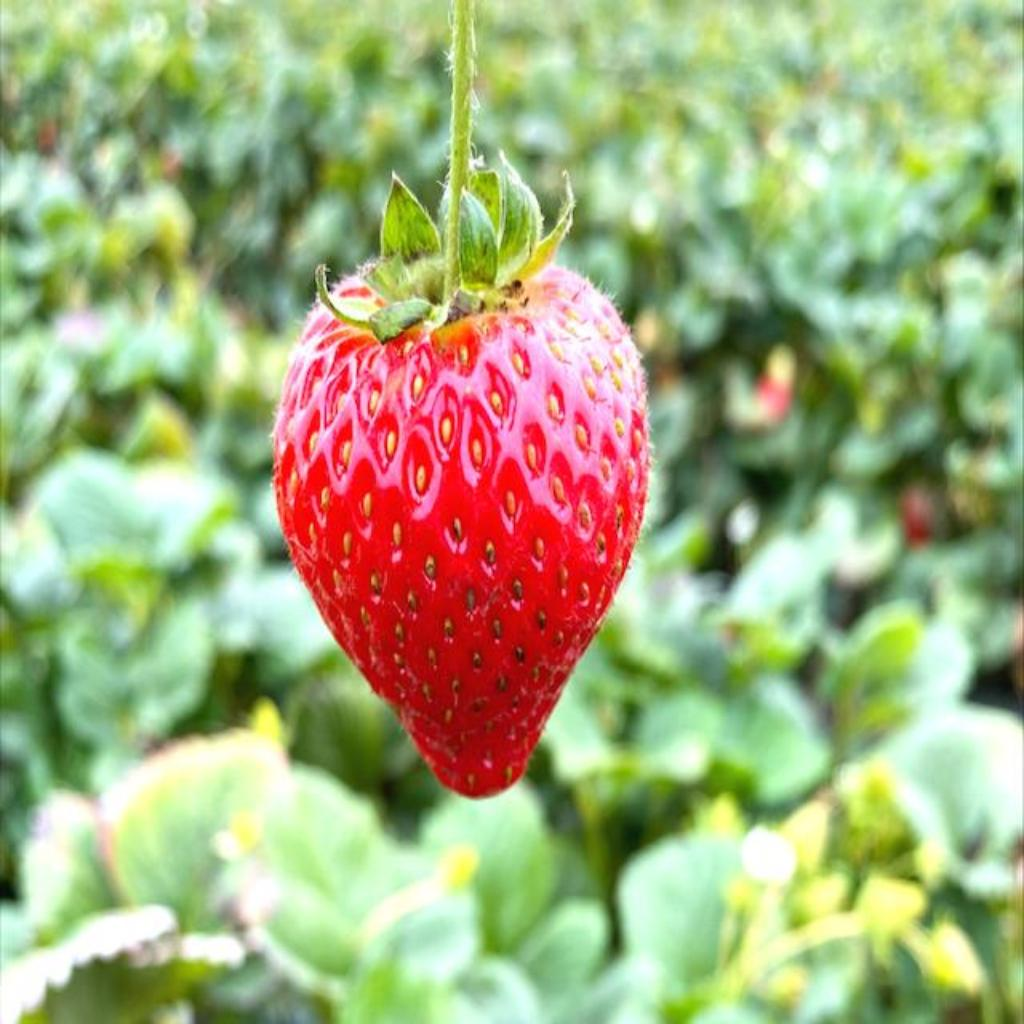strawberry: (274, 0, 648, 797)
